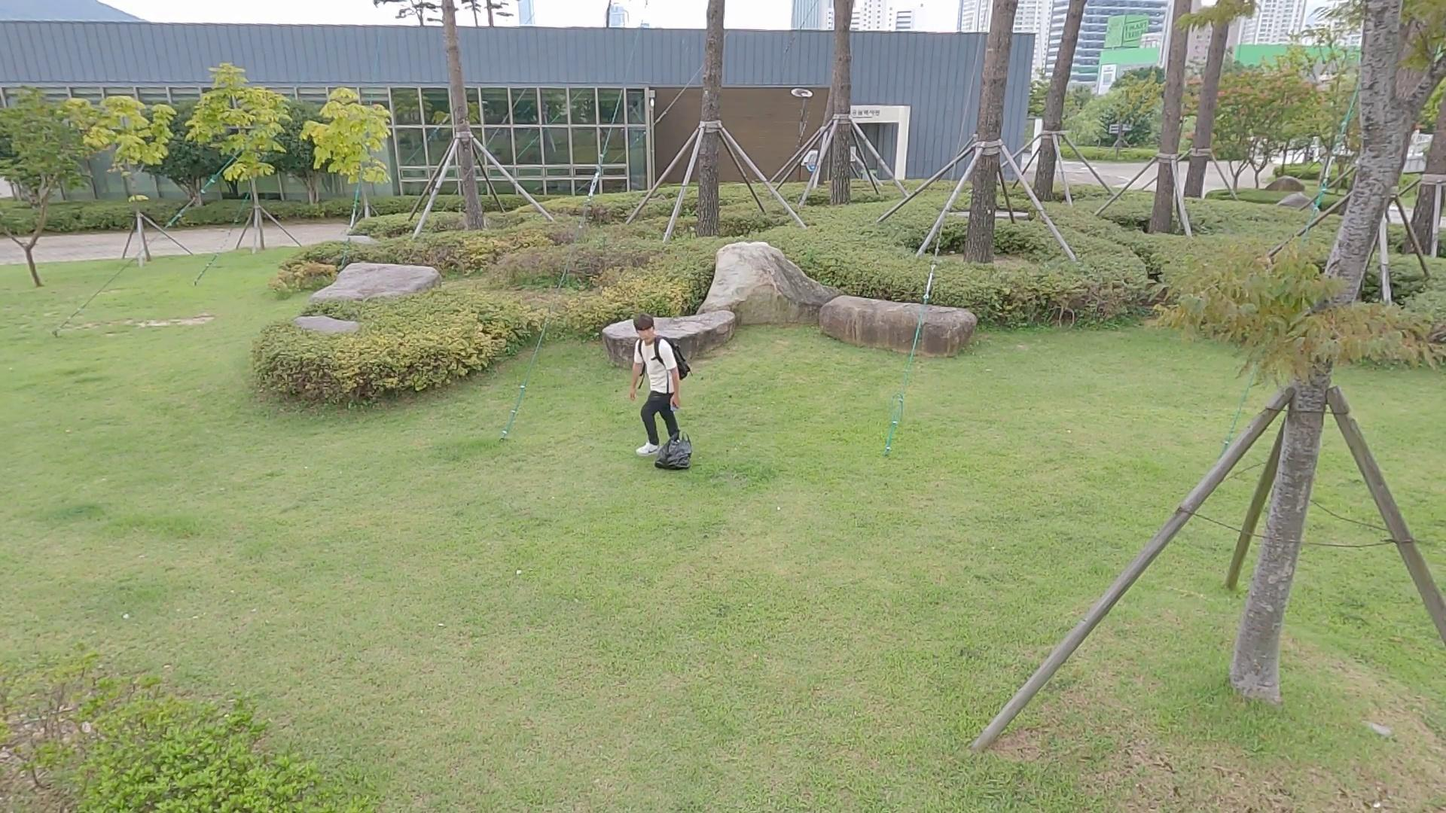person: (627, 309, 690, 459)
trash: (647, 429, 696, 474)
